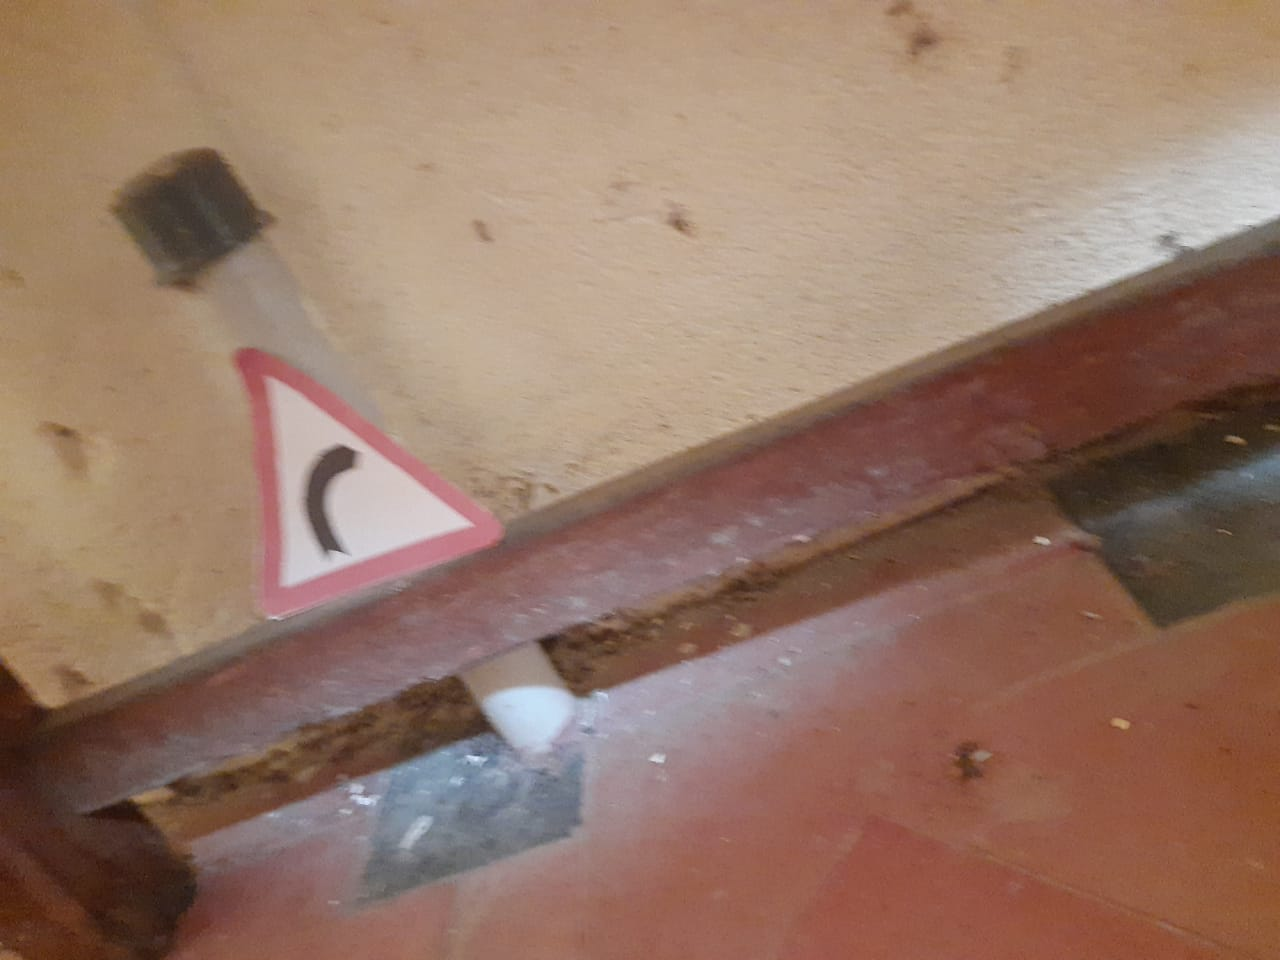RIGHT CURVE: (220, 318, 514, 614)
